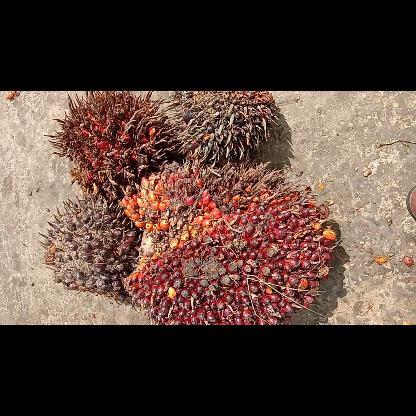Kurang masak: (43, 196, 139, 302)
TBS abnormal: (172, 91, 280, 165)
TBS masak: (121, 162, 337, 324)
Terlalu masak: (48, 90, 172, 196)
